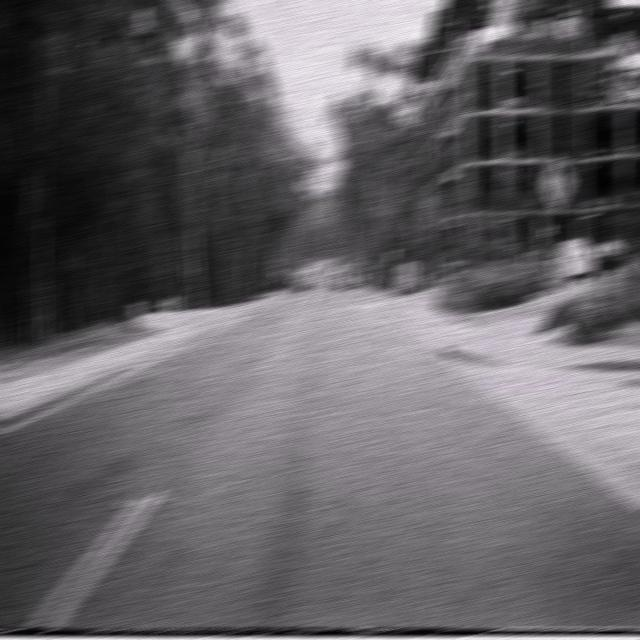pedestrianCrossing: (539, 151, 575, 212)
